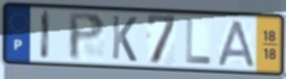7: (145, 13, 178, 67)
A: (216, 18, 257, 69)
I: (39, 9, 52, 63)
K: (110, 14, 139, 64)
L: (184, 17, 214, 66)
P: (67, 11, 107, 62)
